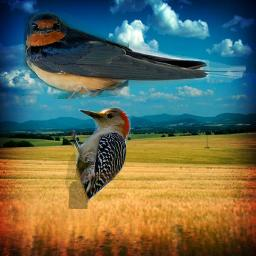Swallow: (19, 8, 246, 99)
Woodpecker: (65, 102, 144, 209)
